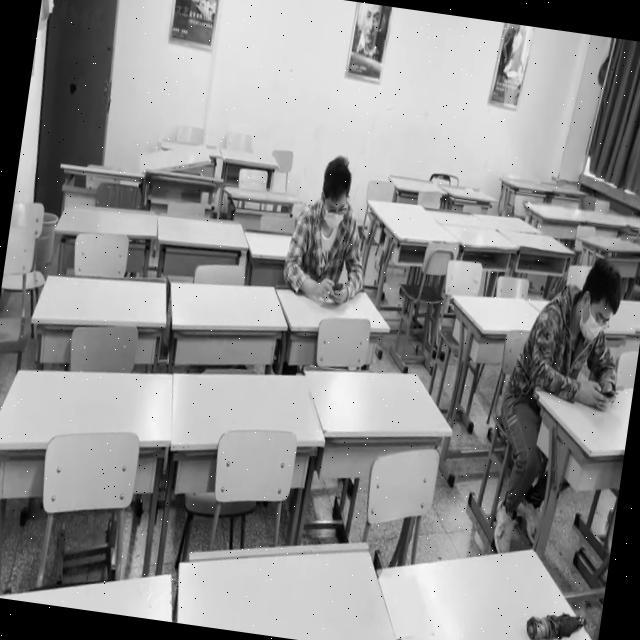phone: (283, 153, 376, 304), (541, 258, 634, 409)
